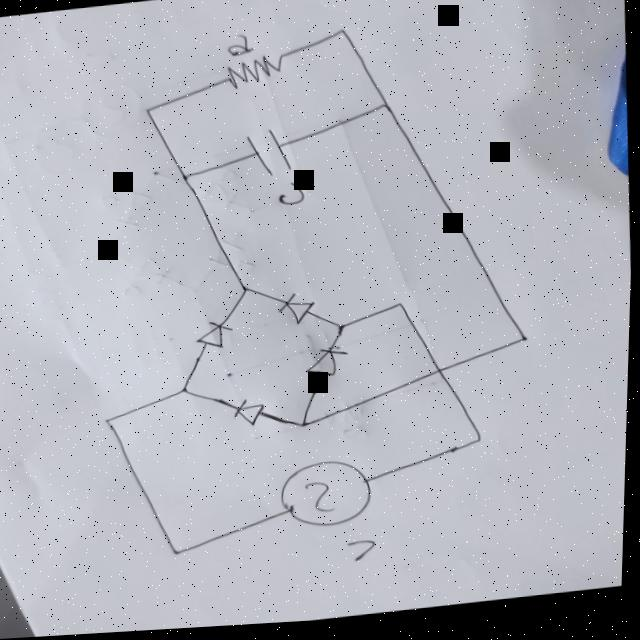capacitor: (243, 129, 295, 182)
crossover: (432, 369, 451, 386)
diode: (304, 349, 353, 383), (278, 293, 319, 331), (194, 320, 238, 354), (231, 399, 271, 433)
junction: (377, 102, 395, 118), (472, 437, 489, 452), (517, 339, 535, 353), (297, 421, 314, 435), (334, 325, 350, 339), (179, 386, 196, 399), (239, 286, 255, 298), (141, 107, 156, 118), (179, 173, 192, 185), (334, 30, 347, 41), (174, 549, 186, 559), (105, 417, 117, 427), (396, 305, 406, 314)
resistor: (222, 55, 287, 94)
source: (279, 458, 377, 538)
text: (348, 542, 381, 567), (276, 184, 306, 210), (225, 35, 254, 60)
